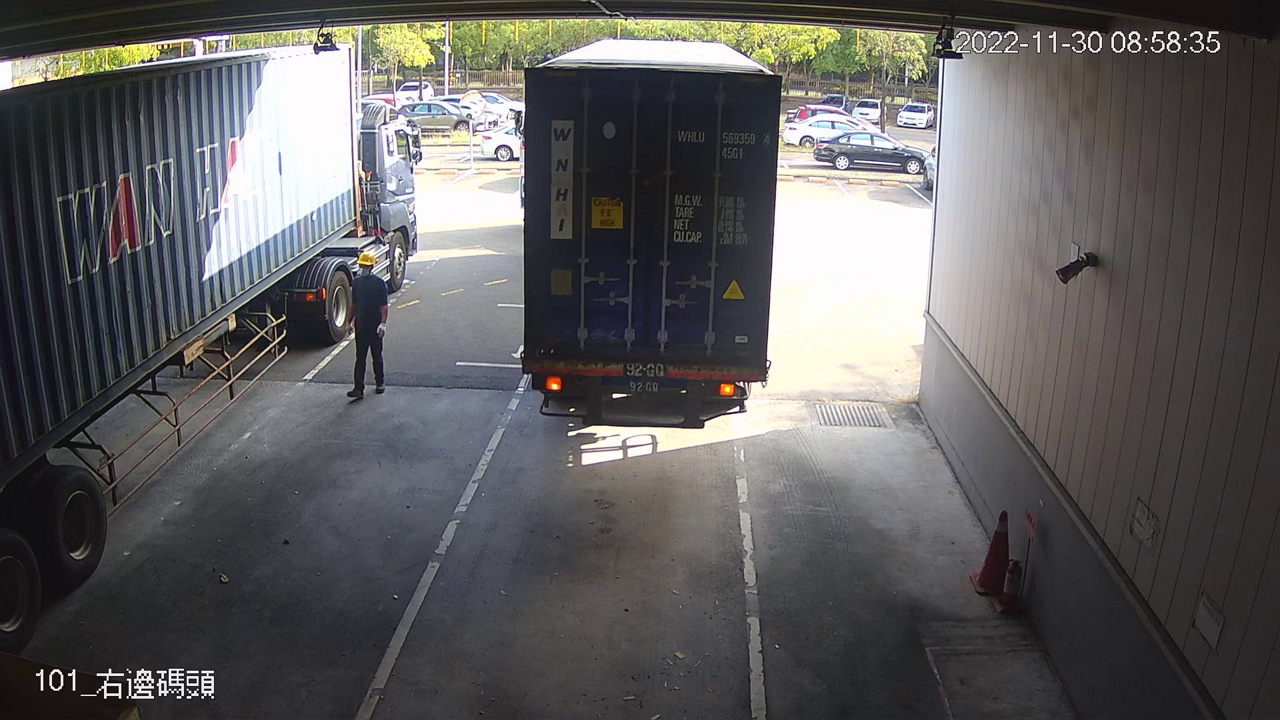container: (673, 126, 775, 164)
